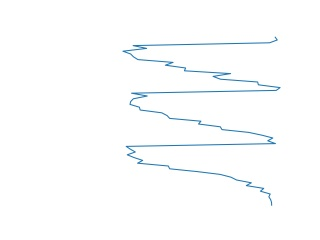distributaryMouthBar: (121, 35, 285, 209)
